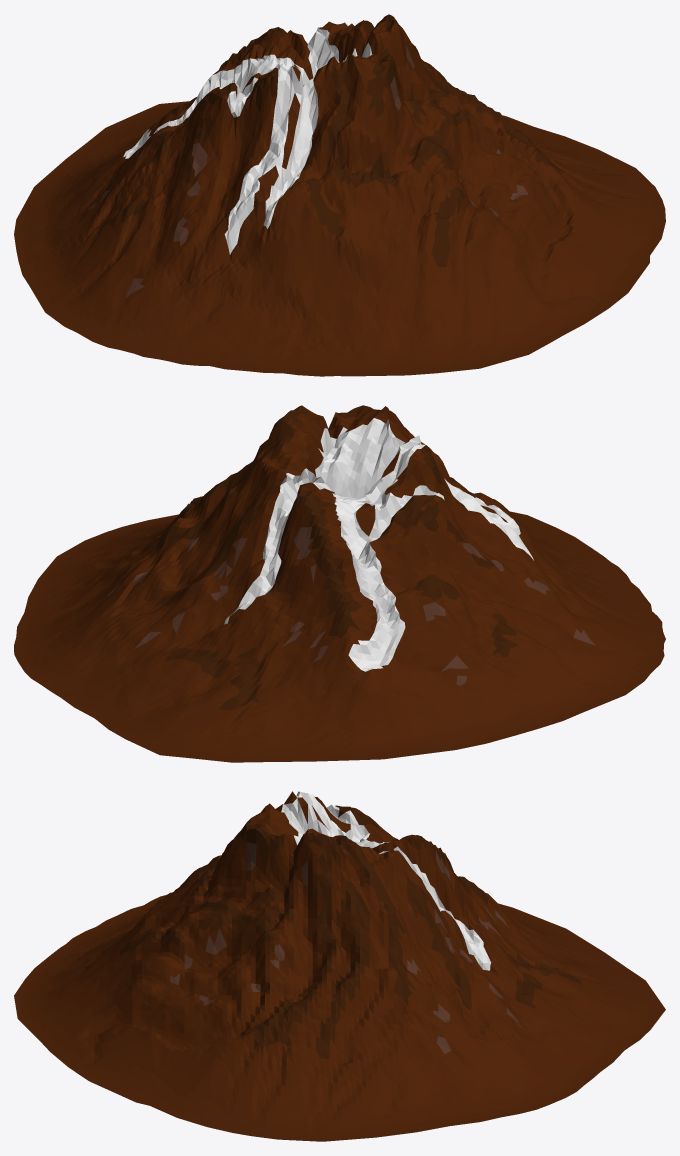
File: Volcan.fbx
The picture shows the model from 3 angles, top to bottom: view 1: azimuth 30°, elevation 25°; view 2: azimuth 150°, elevation 25°; view 3: azimuth 270°, elevation 25°; orthographic projection. The views are drawn at different scales.
Visible parts, largest first — view 1: Landscape.001, Landscape.003, Landscape, Landscape.004, Landscape.002; view 2: Landscape.001, Landscape.003, Landscape, Landscape.004, Landscape.002; view 3: Landscape.001, Landscape.003, Landscape.002, Landscape.004, Landscape.
Part boxes in pixels (box(x1,y1,x2,y2)): Landscape.001: box(14, 19, 665, 376); Landscape.003: box(104, 14, 565, 267); Landscape: box(128, 33, 367, 249); Landscape.004: box(123, 28, 372, 254); Landscape.002: box(88, 45, 528, 297); Landscape.001: box(14, 406, 665, 762); Landscape.003: box(150, 405, 517, 710); Landscape: box(226, 423, 532, 668); Landscape.004: box(224, 418, 533, 671); Landscape.002: box(107, 526, 595, 685); Landscape.001: box(14, 791, 665, 1141); Landscape.003: box(119, 806, 581, 1058); Landscape.002: box(170, 842, 522, 1054); Landscape.004: box(281, 791, 491, 970); Landscape: box(282, 792, 488, 963).
Bounding box in the file's own units: 210 × 72.29 × 217.
